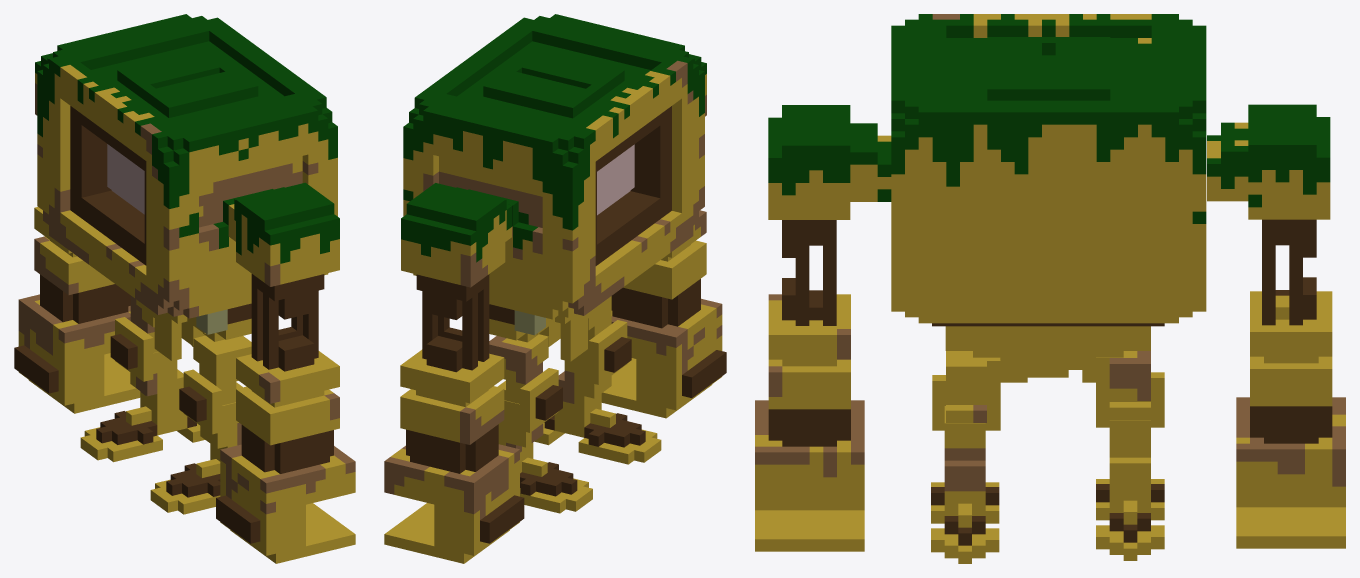
The model's file is robot.fbx.
3 renders of one model, left to right at view 1: azimuth 30°, elevation 25°; view 2: azimuth 150°, elevation 25°; view 3: azimuth 270°, elevation 25°, orthographic. The views are drawn at different scales.
Parts seen in each view (by area): view 1: head, arm_left1, arm_left2, arm_ritg1, leg_rith2, leg_left1, leg_left2, body, leg_rith1; view 2: head, arm_ritg1, arm_rith2, arm_left1, leg_left2, leg_rith1, leg_rith2, body, leg_left1; view 3: head, arm_left1, arm_ritg1, arm_rith2, arm_left2, body, leg_left2, leg_rith2, leg_left1, leg_rith1.
Boxes of the visible parts, <box> form: head: <box>37,14,337,318</box>; arm_left1: <box>216,351,355,563</box>; arm_left2: <box>228,182,339,371</box>; arm_ritg1: <box>14,207,140,413</box>; leg_rith2: <box>80,351,204,462</box>; leg_left1: <box>179,335,251,434</box>; leg_left2: <box>150,402,241,514</box>; body: <box>153,303,251,360</box>; leg_rith1: <box>110,295,158,381</box>; head: <box>403,14,704,319</box>; arm_ritg1: <box>384,349,524,563</box>; arm_rith2: <box>401,183,512,372</box>; arm_left1: <box>601,210,726,418</box>; leg_left2: <box>534,354,661,464</box>; leg_rith1: <box>489,334,562,432</box>; leg_rith2: <box>498,400,592,513</box>; body: <box>489,304,589,361</box>; leg_left1: <box>581,296,631,384</box>; head: <box>891,14,1206,323</box>; arm_left1: <box>755,294,864,551</box>; arm_ritg1: <box>1236,291,1345,548</box>; arm_rith2: <box>1207,104,1330,325</box>; arm_left2: <box>768,105,891,325</box>; body: <box>932,323,1164,382</box>; leg_left2: <box>931,406,999,563</box>; leg_rith2: <box>1096,420,1164,560</box>; leg_left1: <box>932,351,1000,430</box>; leg_rith1: <box>1096,351,1164,427</box>.
Bounding box in the file's own units: 170 × 373 × 432.
